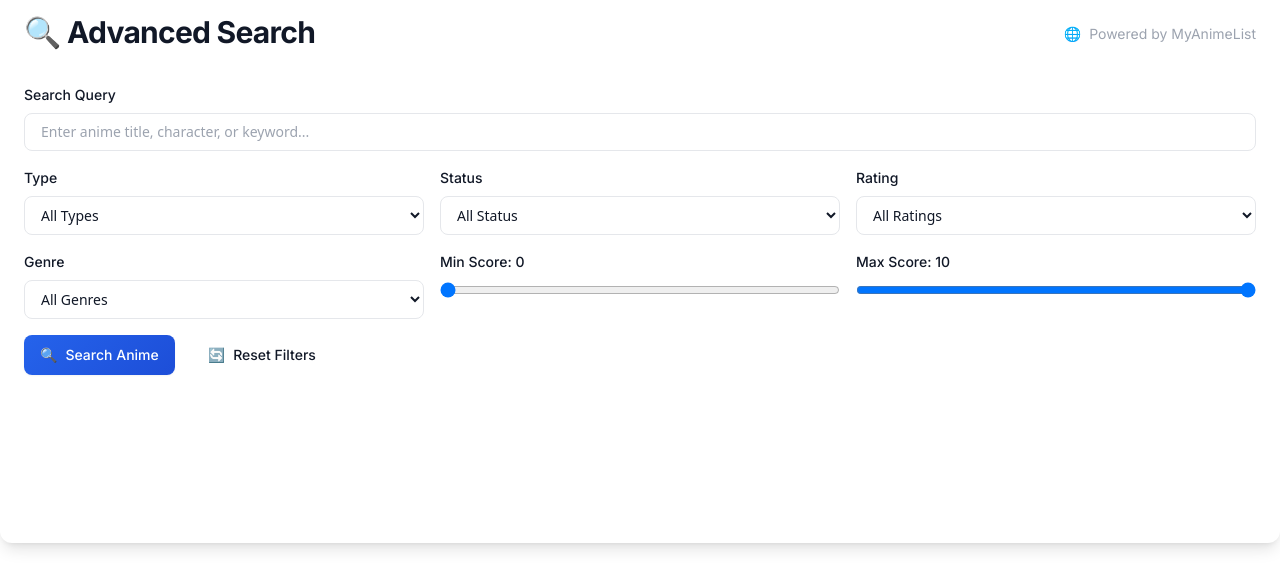
it: AdvancedSearch Component › User Interactions › should clear all filters when reset button is clicked
Check: the number of dropdowns is 4, box [24,196,424,234]; [440,196,840,234]; [856,196,1256,234]; [24,280,424,318]
Type "Test Query" into the field with placeholder "Enter anime title, character, or keyword...". click: (640, 132)
box: [24,112,1256,150]
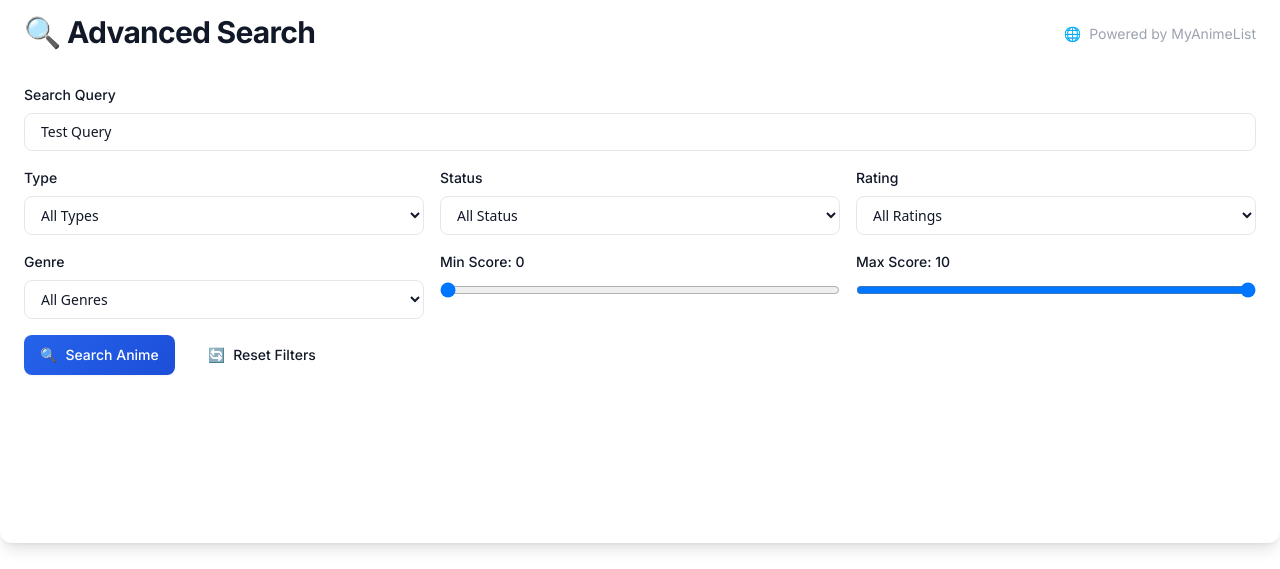
Select "TV Series" in the dropdown below "Type". click: (224, 215)
box: [24,196,424,234]
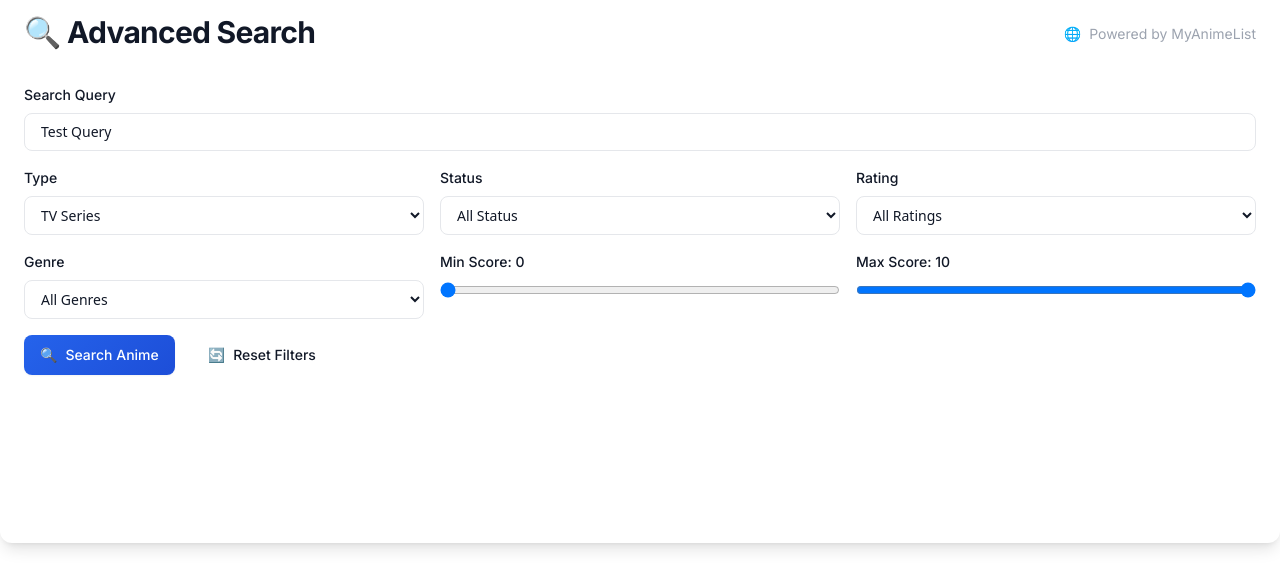
# Click reset button
Click the button "🔄Reset Filters". click: (262, 354)
box: [191,334,333,374]
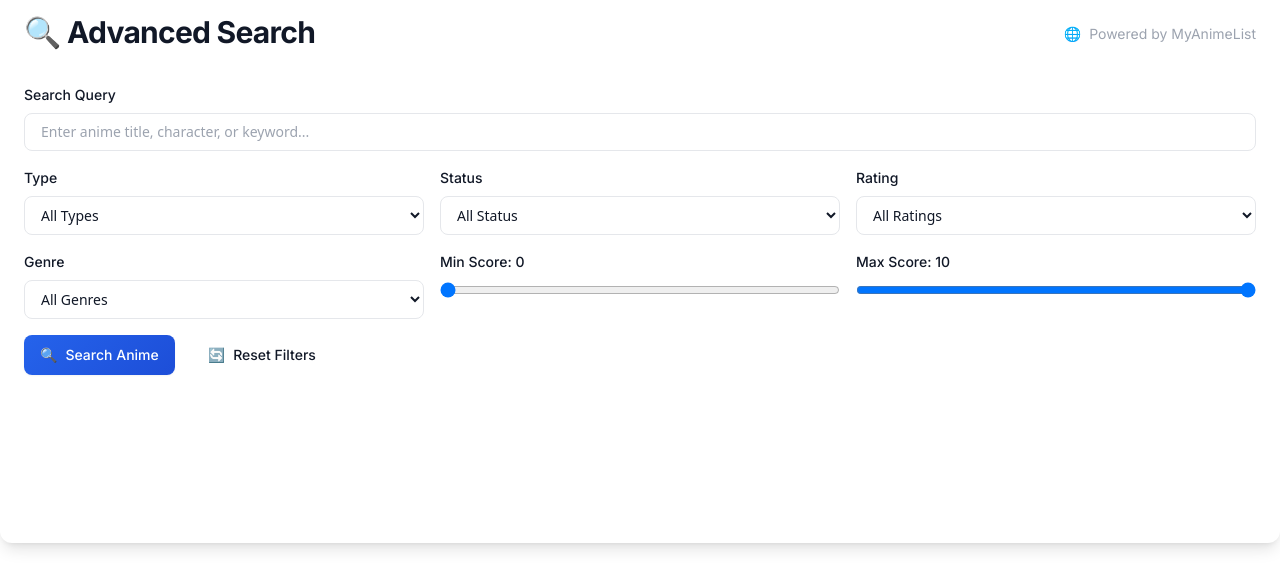
Check: the field with placeholder "Enter anime title, character, or keyword..." is empty, box [24,112,1256,150]
